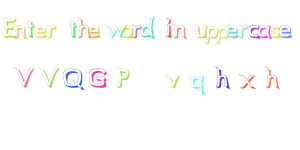E: (1, 16, 18, 39)
G: (87, 66, 108, 88)
P: (115, 66, 130, 89)
Q: (62, 67, 84, 89)
V: (37, 66, 60, 88), (13, 66, 34, 88)
a: (258, 24, 272, 39)
c: (248, 23, 259, 39)
d: (139, 15, 155, 39)
e: (279, 23, 293, 39), (87, 23, 100, 39), (226, 23, 239, 39)
h: (264, 64, 281, 89), (214, 64, 230, 88), (77, 15, 89, 39)
i: (164, 16, 173, 39)
n: (172, 22, 188, 39), (13, 24, 27, 40)
o: (119, 24, 134, 38)
p: (216, 24, 228, 46), (205, 25, 218, 45)
q: (189, 75, 206, 94)
r: (46, 24, 57, 38), (131, 24, 142, 38), (238, 24, 248, 39)
s: (269, 23, 280, 40)
t: (26, 18, 36, 38), (67, 20, 77, 38)
u: (193, 23, 208, 39)
v: (165, 73, 181, 89)
w: (104, 23, 125, 39), (34, 24, 46, 39)
x: (238, 72, 257, 89)
